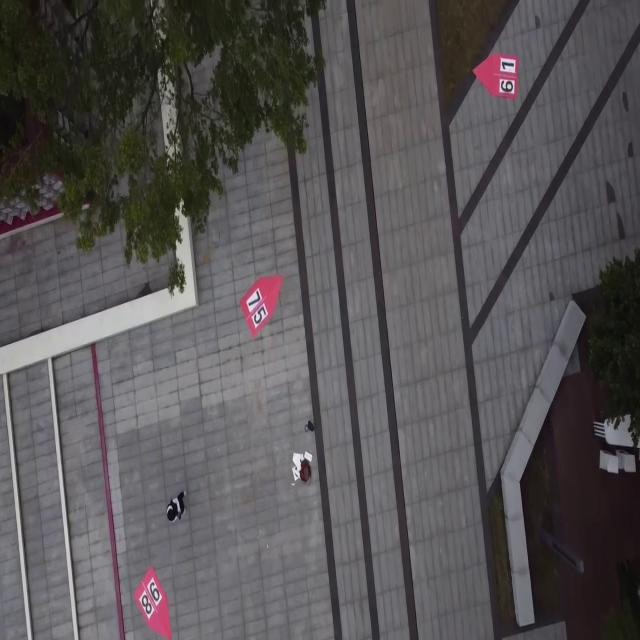-sign-: (1, 171, 90, 247), (240, 273, 284, 339), (134, 567, 172, 640), (474, 52, 520, 100)
